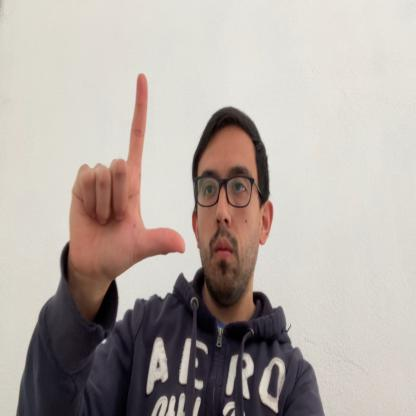L: (69, 73, 185, 274)
